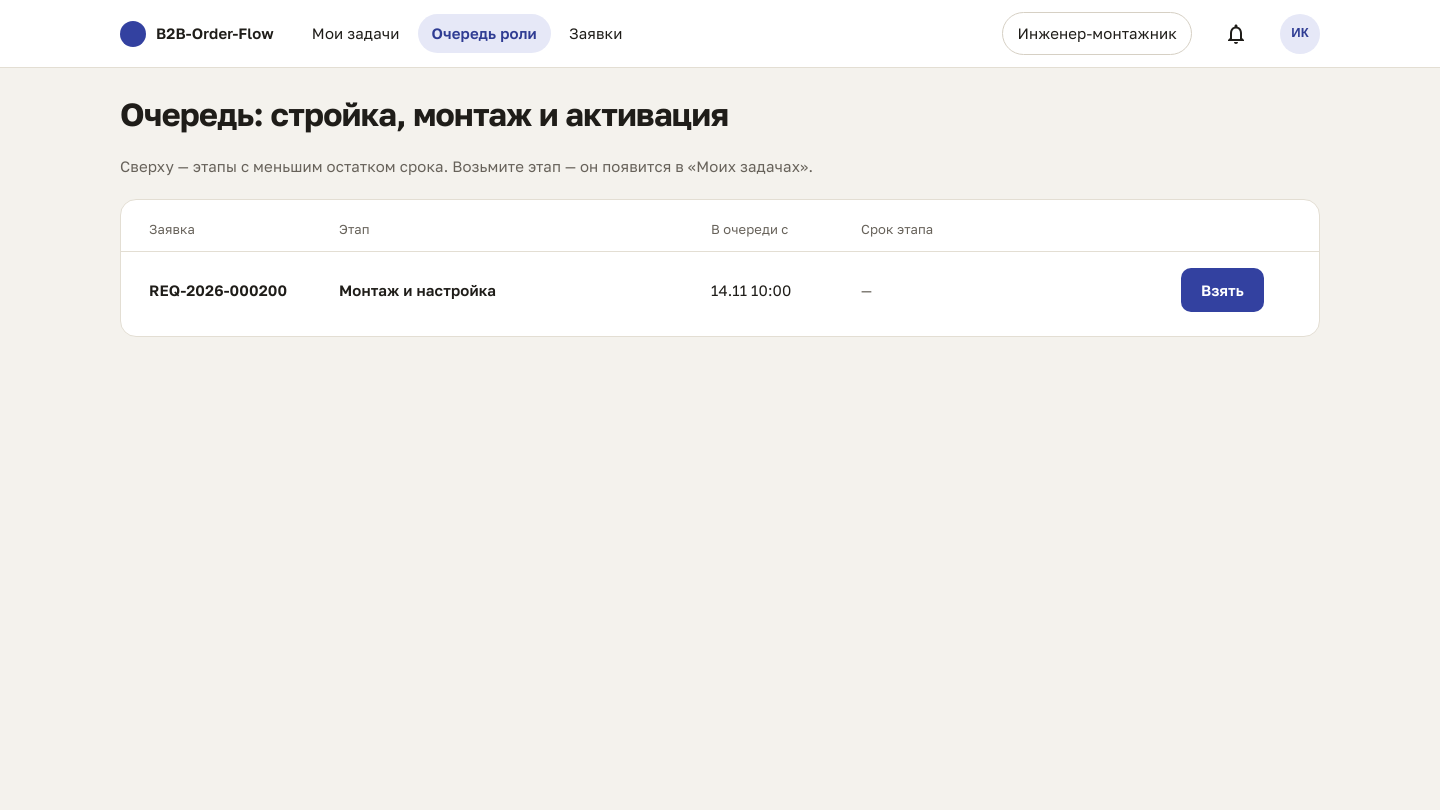
Test: Монтаж и активация (шаги 8–9) › после «Взять» в очереди карточка сразу показывает действие, а не старую кнопку из кэша
This screenshot has width=1440, height=810.
What coordinates should you click on to do the following:
click the button with test id "action-claim"
I would click on:
 (1222, 290)
Its box is left=1181, top=268, right=1264, bottom=312.
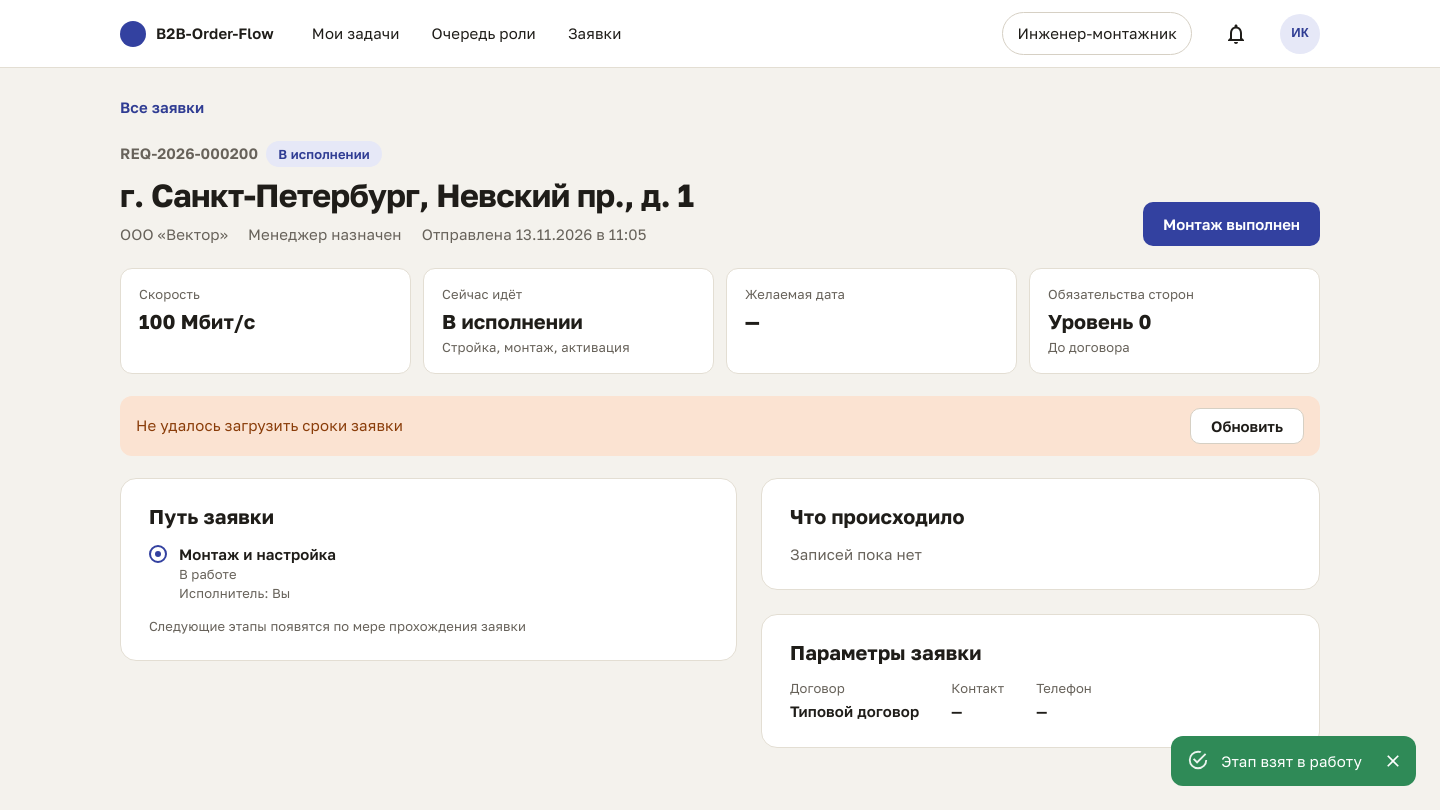
Expected: the button with test id "action-complete" is shown, left=1143, top=202, right=1320, bottom=246
Expected: the button with test id "action-claim" is gone
